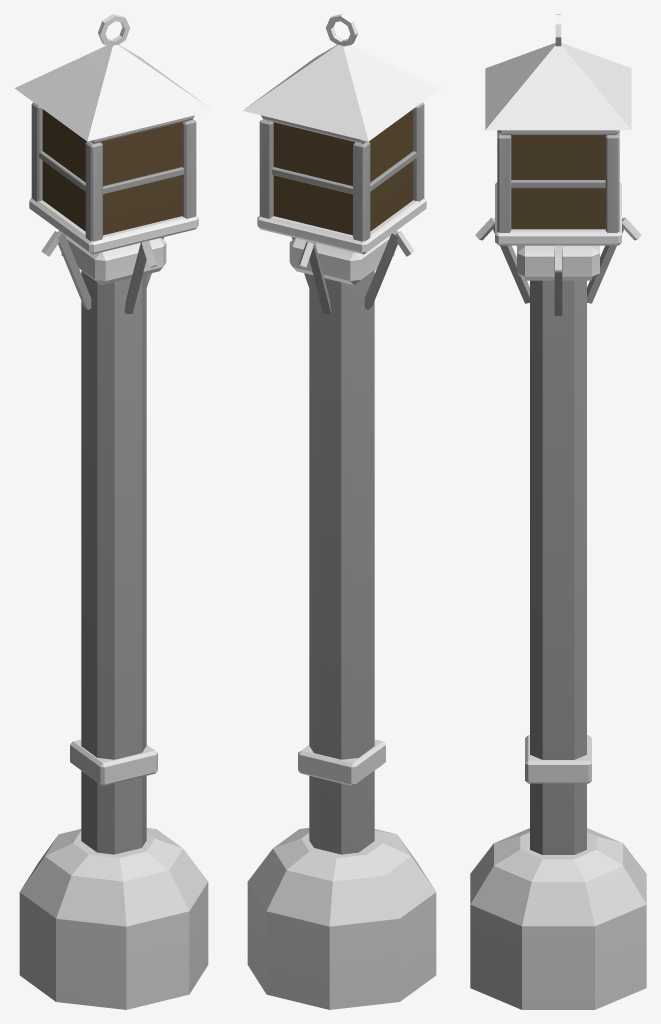
The model's file is lantern_post.glb.
3 renders of one model, left to right at view 1: azimuth 30°, elevation 25°; view 2: azimuth 150°, elevation 25°; view 3: azimuth 270°, elevation 25°, orthographic.
Parts seen in each view (by area): view 1: lamp_band; view 2: lamp_band; view 3: lamp_band.
Boxes of the visible parts, x1,y1,x2,y2 form: lamp_band: (14,14,213,1009); lamp_band: (242,14,441,1009); lamp_band: (470,14,646,1009).
Bounding box in the file's own units: 0.5543 × 3.32 × 0.5543.
